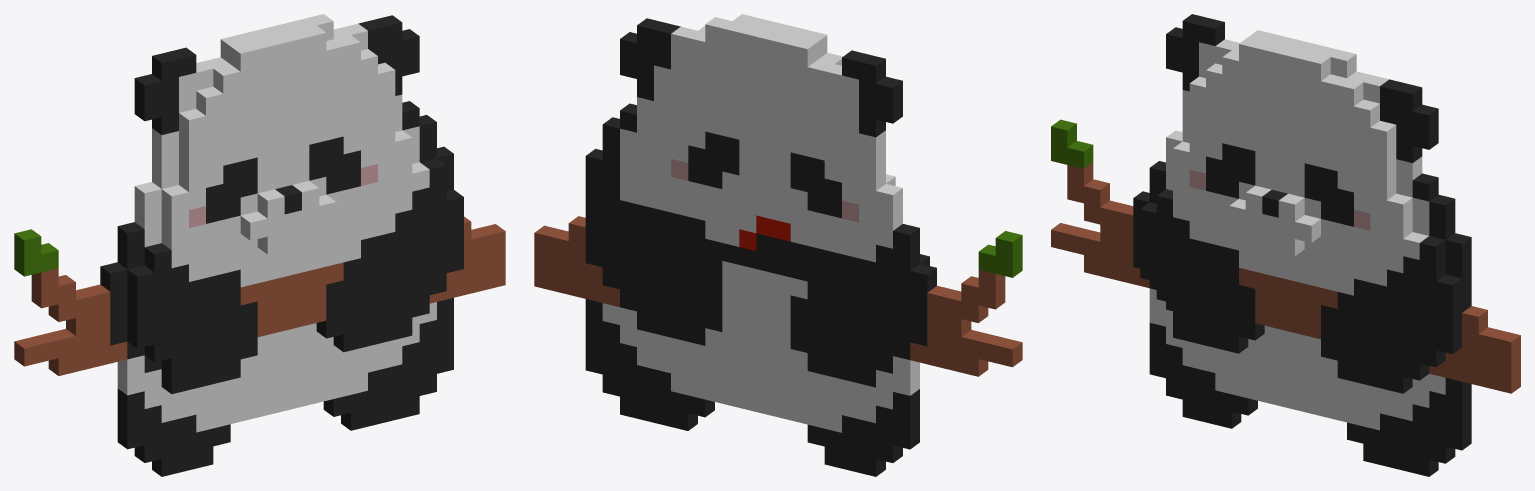
File: lv43 panda.fbx
3 views of the same model, side by side, from view 1: azimuth 30°, elevation 25°; view 2: azimuth 150°, elevation 25°; view 3: azimuth 330°, elevation 25° (orthographic). The views are drawn at different scales.
Visible parts, largest first — view 1: pCube5901, pCube5931, pCube6024, pCube5255, pCube5717, pCube5947, pCube6014, pCube5550, pCube5394, pCube5407, pCube5912, pCube6011 (+19 smaller); view 2: pCube127, pCube5711, pCube5717, pCube5253, pCube5255, pCube5550, pCube5394, pCube5407, pCube5716, pCube5714; view 3: pCube5272, pCube5390, pCube5868, pCube5269, pCube5401, pCube5403, pCube5929, pCube5989, pCube5718, pCube5988, pCube6043, pCube5287 (+9 smaller).
Boxes of the visible parts, <box> form: pCube5901: <box>127,265,154,294</box>; pCube5931: <box>257,189,284,218</box>; pCube6024: <box>230,42,257,71</box>; pCube5255: <box>134,74,161,103</box>; pCube5717: <box>14,229,41,258</box>; pCube5947: <box>161,185,188,214</box>; pCube6014: <box>196,86,223,115</box>; pCube5550: <box>100,262,127,291</box>; pCube5394: <box>134,182,161,211</box>; pCube5407: <box>117,222,144,251</box>; pCube5912: <box>240,211,267,240</box>; pCube6011: <box>213,64,240,93</box>; pCube127: <box>790,38,817,66</box>; pCube5711: <box>995,338,1022,367</box>; pCube5717: <box>995,231,1022,259</box>; pCube5253: <box>859,54,885,83</box>; pCube5255: <box>876,76,902,105</box>; pCube5550: <box>910,263,936,292</box>; pCube5394: <box>876,184,902,212</box>; pCube5407: <box>893,224,919,252</box>; pCube5716: <box>995,253,1022,277</box>; pCube5714: <box>978,285,1005,309</box>; pCube5272: <box>1396,83,1422,111</box>; pCube5390: <box>1412,173,1438,201</box>; pCube5868: <box>1419,236,1445,263</box>; pCube5269: <box>1330,50,1356,77</box>; pCube5401: <box>1429,195,1455,222</box>; pCube5403: <box>1445,233,1471,260</box>; pCube5929: <box>1278,193,1304,221</box>; pCube5989: <box>1337,78,1363,106</box>; pCube5718: <box>1067,141,1093,168</box>; pCube5988: <box>1370,121,1396,148</box>; pCube6043: <box>1304,53,1330,80</box>; pCube5287: <box>1412,104,1438,132</box>.
Size of the model in its own units: 28 by 23 by 3.
